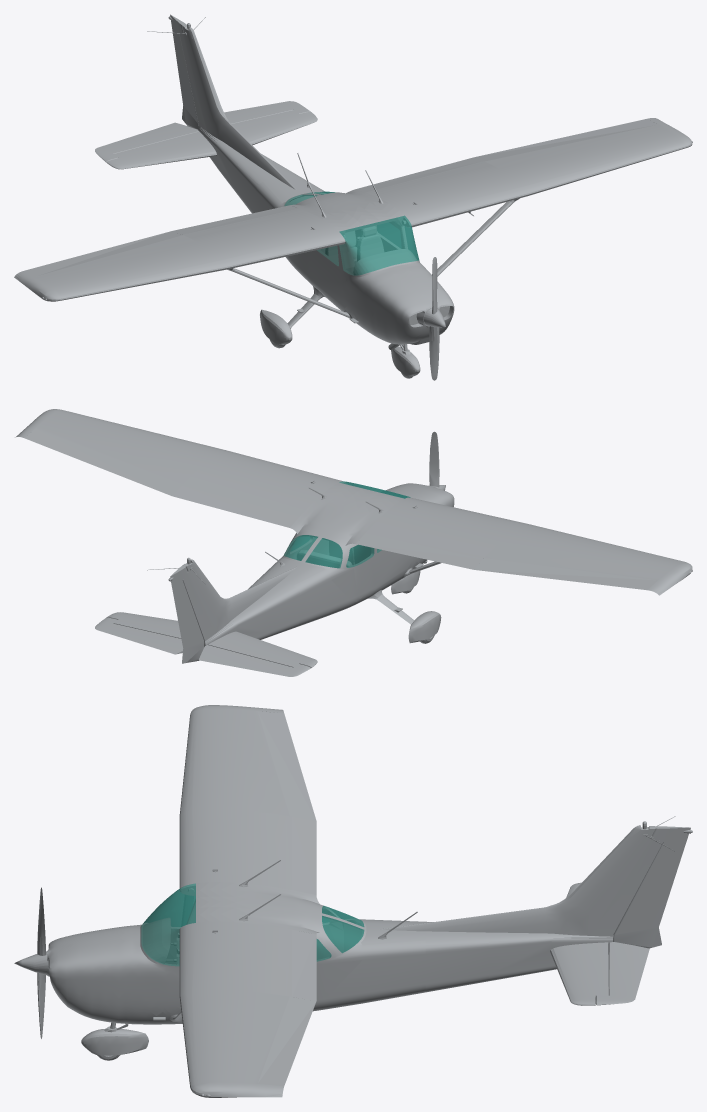
The model's file is Planes_4CAE.obj.
The picture shows the model from 3 angles, top to bottom: view 1: azimuth 30°, elevation 25°; view 2: azimuth 150°, elevation 25°; view 3: azimuth 270°, elevation 25°; orthographic projection. The views are drawn at different scales.
Visible parts, largest first — view 1: Mesh186 Cessna1764_1_1 All_Plane1 Model, Mesh5 Cessna1728_1_1 All_Plane1 Model, Mesh338 Cessna1714_1_1 All_Plane1 Model, Mesh55 Cessna1720_1_1 All_Plane1 Model, Mesh80 Cessna1766_1_1 All_Plane1 Model, Mesh132 Cessna1719_1_1 All_Plane1 Model, Mesh175 Cessna1718_1_1 All_Plane1 Model, Mesh151 AleronIzq_1_1 All_Plane1 Model, Mesh121 RightEleva_1_1 All_Plane1 Model, Mesh123 RightAiler_1_1 All_Plane1 Model, Mesh348 polySurfac_1_1 All_Plane1 Model, Mesh67 Cessna1745_1_1 All_Plane1 Model (+8 smaller); view 2: Mesh186 Cessna1764_1_1 All_Plane1 Model, Mesh5 Cessna1728_1_1 All_Plane1 Model, Mesh338 Cessna1714_1_1 All_Plane1 Model, Mesh55 Cessna1720_1_1 All_Plane1 Model, Mesh151 AleronIzq_1_1 All_Plane1 Model, Mesh123 RightAiler_1_1 All_Plane1 Model, Mesh16 FlapIzq_1_1 All_Plane1 Model, Mesh161 RightFlap_1_1 All_Plane1 Model, Mesh132 Cessna1719_1_1 All_Plane1 Model, Mesh348 polySurfac_1_1 All_Plane1 Model, Mesh121 RightEleva_1_1 All_Plane1 Model, Mesh63 LeftElevat_1_1 All_Plane1 Model (+8 smaller); view 3: Mesh186 Cessna1764_1_1 All_Plane1 Model, Mesh338 Cessna1714_1_1 All_Plane1 Model, Mesh5 Cessna1728_1_1 All_Plane1 Model, Mesh55 Cessna1720_1_1 All_Plane1 Model, Mesh348 polySurfac_1_1 All_Plane1 Model, Mesh175 Cessna1718_1_1 All_Plane1 Model, Mesh80 Cessna1766_1_1 All_Plane1 Model, Mesh123 RightAiler_1_1 All_Plane1 Model, Mesh151 AleronIzq_1_1 All_Plane1 Model, Mesh161 RightFlap_1_1 All_Plane1 Model, Mesh63 LeftElevat_1_1 All_Plane1 Model, Mesh16 FlapIzq_1_1 All_Plane1 Model (+4 smaller).
Part boxes in pixels (<box>): Mesh186 Cessna1764_1_1 All_Plane1 Model: <box>198,126,454,344</box>; Mesh5 Cessna1728_1_1 All_Plane1 Model: <box>368,118,692,227</box>; Mesh338 Cessna1714_1_1 All_Plane1 Model: <box>14,209,345,301</box>; Mesh55 Cessna1720_1_1 All_Plane1 Model: <box>179,24,296,190</box>; Mesh80 Cessna1766_1_1 All_Plane1 Model: <box>339,215,419,275</box>; Mesh132 Cessna1719_1_1 All_Plane1 Model: <box>106,131,216,169</box>; Mesh175 Cessna1718_1_1 All_Plane1 Model: <box>231,110,317,145</box>; Mesh151 AleronIzq_1_1 All_Plane1 Model: <box>473,118,657,161</box>; Mesh121 RightEleva_1_1 All_Plane1 Model: <box>95,122,198,161</box>; Mesh123 RightAiler_1_1 All_Plane1 Model: <box>25,231,182,276</box>; Mesh348 polySurfac_1_1 All_Plane1 Model: <box>170,14,198,129</box>; Mesh67 Cessna1745_1_1 All_Plane1 Model: <box>260,286,325,344</box>; Mesh186 Cessna1764_1_1 All_Plane1 Model: <box>205,482,454,645</box>; Mesh5 Cessna1728_1_1 All_Plane1 Model: <box>15,409,342,513</box>; Mesh338 Cessna1714_1_1 All_Plane1 Model: <box>368,497,692,595</box>; Mesh55 Cessna1720_1_1 All_Plane1 Model: <box>182,559,296,646</box>; Mesh151 AleronIzq_1_1 All_Plane1 Model: <box>25,428,182,495</box>; Mesh123 RightAiler_1_1 All_Plane1 Model: <box>473,558,657,590</box>; Mesh16 FlapIzq_1_1 All_Plane1 Model: <box>172,483,301,527</box>; Mesh161 RightFlap_1_1 All_Plane1 Model: <box>356,530,485,569</box>; Mesh132 Cessna1719_1_1 All_Plane1 Model: <box>208,631,317,667</box>; Mesh348 polySurfac_1_1 All_Plane1 Model: <box>170,566,203,663</box>; Mesh121 RightEleva_1_1 All_Plane1 Model: <box>199,645,310,676</box>; Mesh63 LeftElevat_1_1 All_Plane1 Model: <box>95,617,183,654</box>; Mesh186 Cessna1764_1_1 All_Plane1 Model: <box>47,882,612,1024</box>; Mesh338 Cessna1714_1_1 All_Plane1 Model: <box>179,705,289,888</box>; Mesh5 Cessna1728_1_1 All_Plane1 Model: <box>179,921,289,1097</box>; Mesh55 Cessna1720_1_1 All_Plane1 Model: <box>380,825,663,936</box>; Mesh348 polySurfac_1_1 All_Plane1 Model: <box>613,826,690,948</box>; Mesh175 Cessna1718_1_1 All_Plane1 Model: <box>550,942,608,1005</box>; Mesh80 Cessna1766_1_1 All_Plane1 Model: <box>141,883,195,966</box>; Mesh123 RightAiler_1_1 All_Plane1 Model: <box>257,711,316,820</box>; Mesh151 AleronIzq_1_1 All_Plane1 Model: <box>258,996,316,1086</box>; Mesh161 RightFlap_1_1 All_Plane1 Model: <box>286,815,316,894</box>; Mesh63 LeftElevat_1_1 All_Plane1 Model: <box>595,942,649,1005</box>; Mesh16 FlapIzq_1_1 All_Plane1 Model: <box>286,928,316,1001</box>.
Size of the model in its own units: 11.14 by 3.19 by 8.23.
